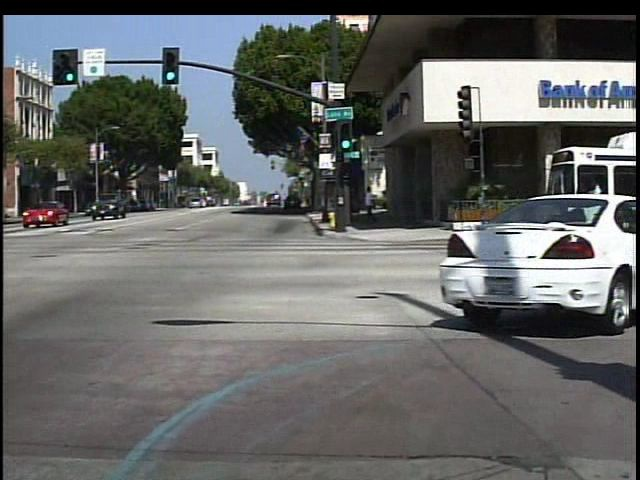person: (361, 181, 382, 225)
